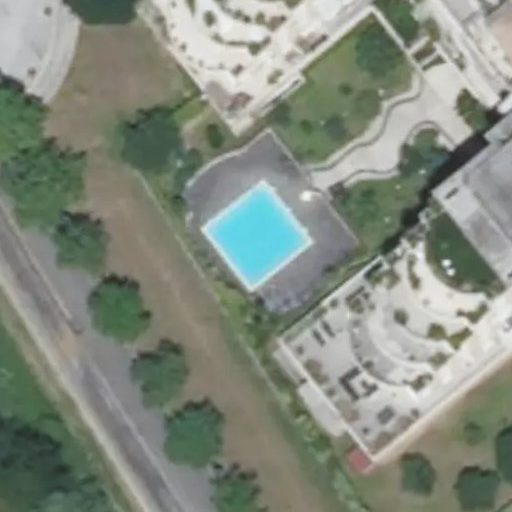pool: (204, 235, 307, 248)
